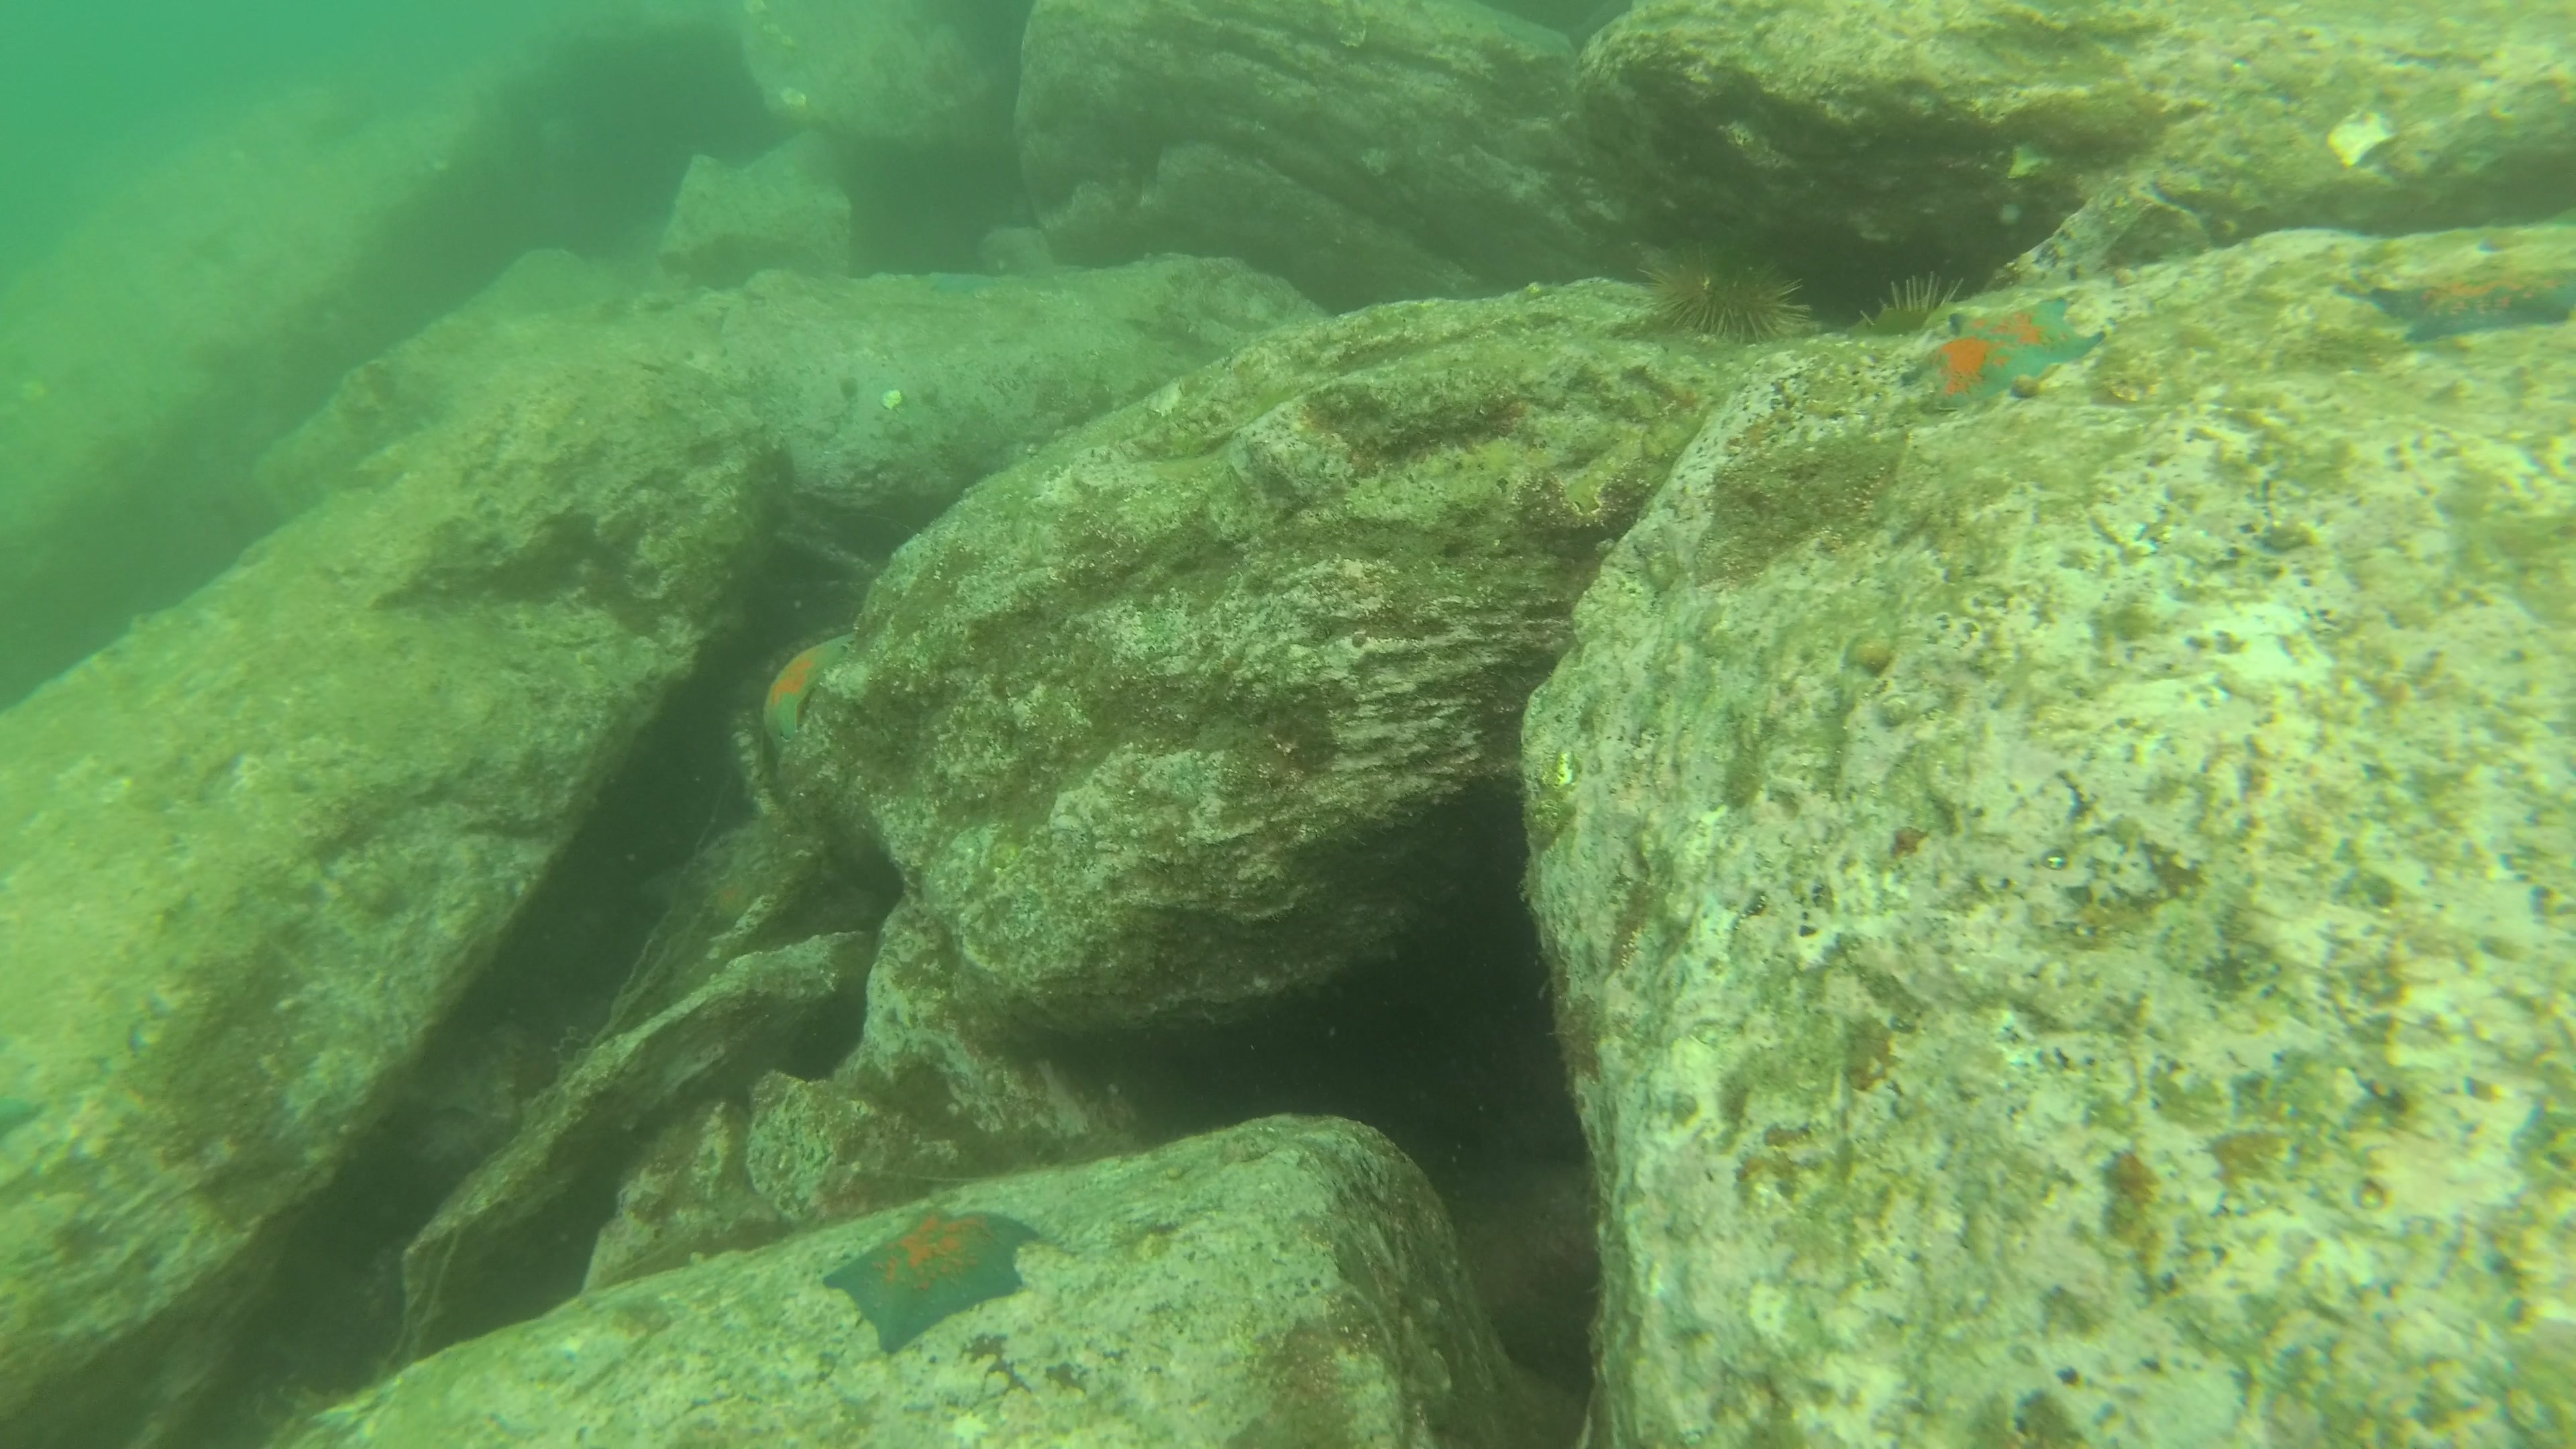echinus: (1638, 248, 1815, 341), (1859, 276, 1976, 373)
starfish: (824, 1207, 1044, 1353), (1895, 294, 2107, 418), (2371, 267, 2576, 341), (763, 628, 856, 752)
